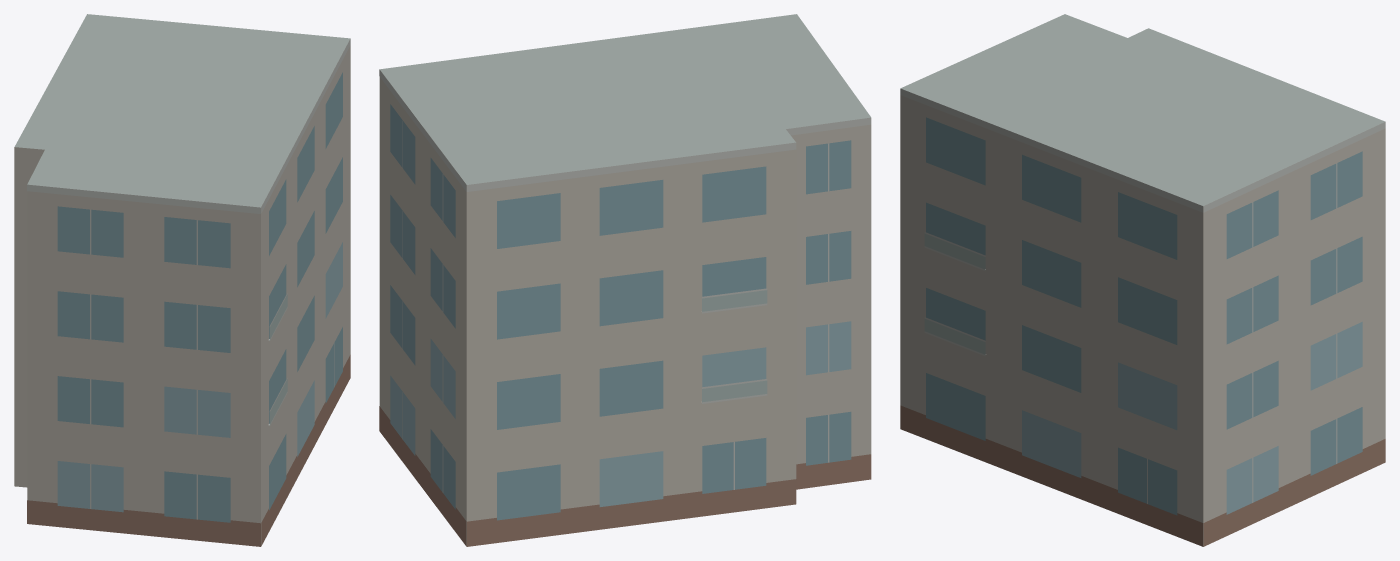
Rendered from survey-upis-32549993.glb.
The picture shows the model from 3 angles, left to right: view 1: azimuth 30°, elevation 25°; view 2: azimuth 150°, elevation 25°; view 3: azimuth 270°, elevation 25°; orthographic projection. The views are drawn at different scales.
Parts seen in each view (by area): view 1: survey-upis-32549993.tmp; view 2: survey-upis-32549993.tmp; view 3: survey-upis-32549993.tmp.
Part boxes in pixels (x1=…): survey-upis-32549993.tmp: x1=14, y1=14, x2=350, y2=546; survey-upis-32549993.tmp: x1=379, y1=14, x2=871, y2=546; survey-upis-32549993.tmp: x1=900, y1=14, x2=1385, y2=546.
Bounding box in the file's own units: 15.19 × 12.55 × 16.21.
